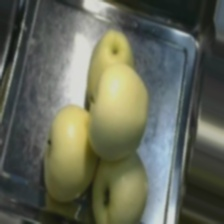apple: (29, 9, 168, 205)
